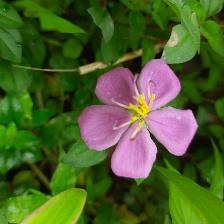malabar melastome: (78, 57, 201, 184)
